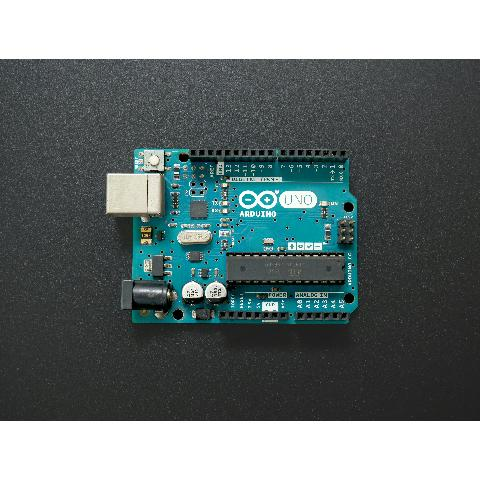Arduino-Uno: (104, 148, 362, 328)
